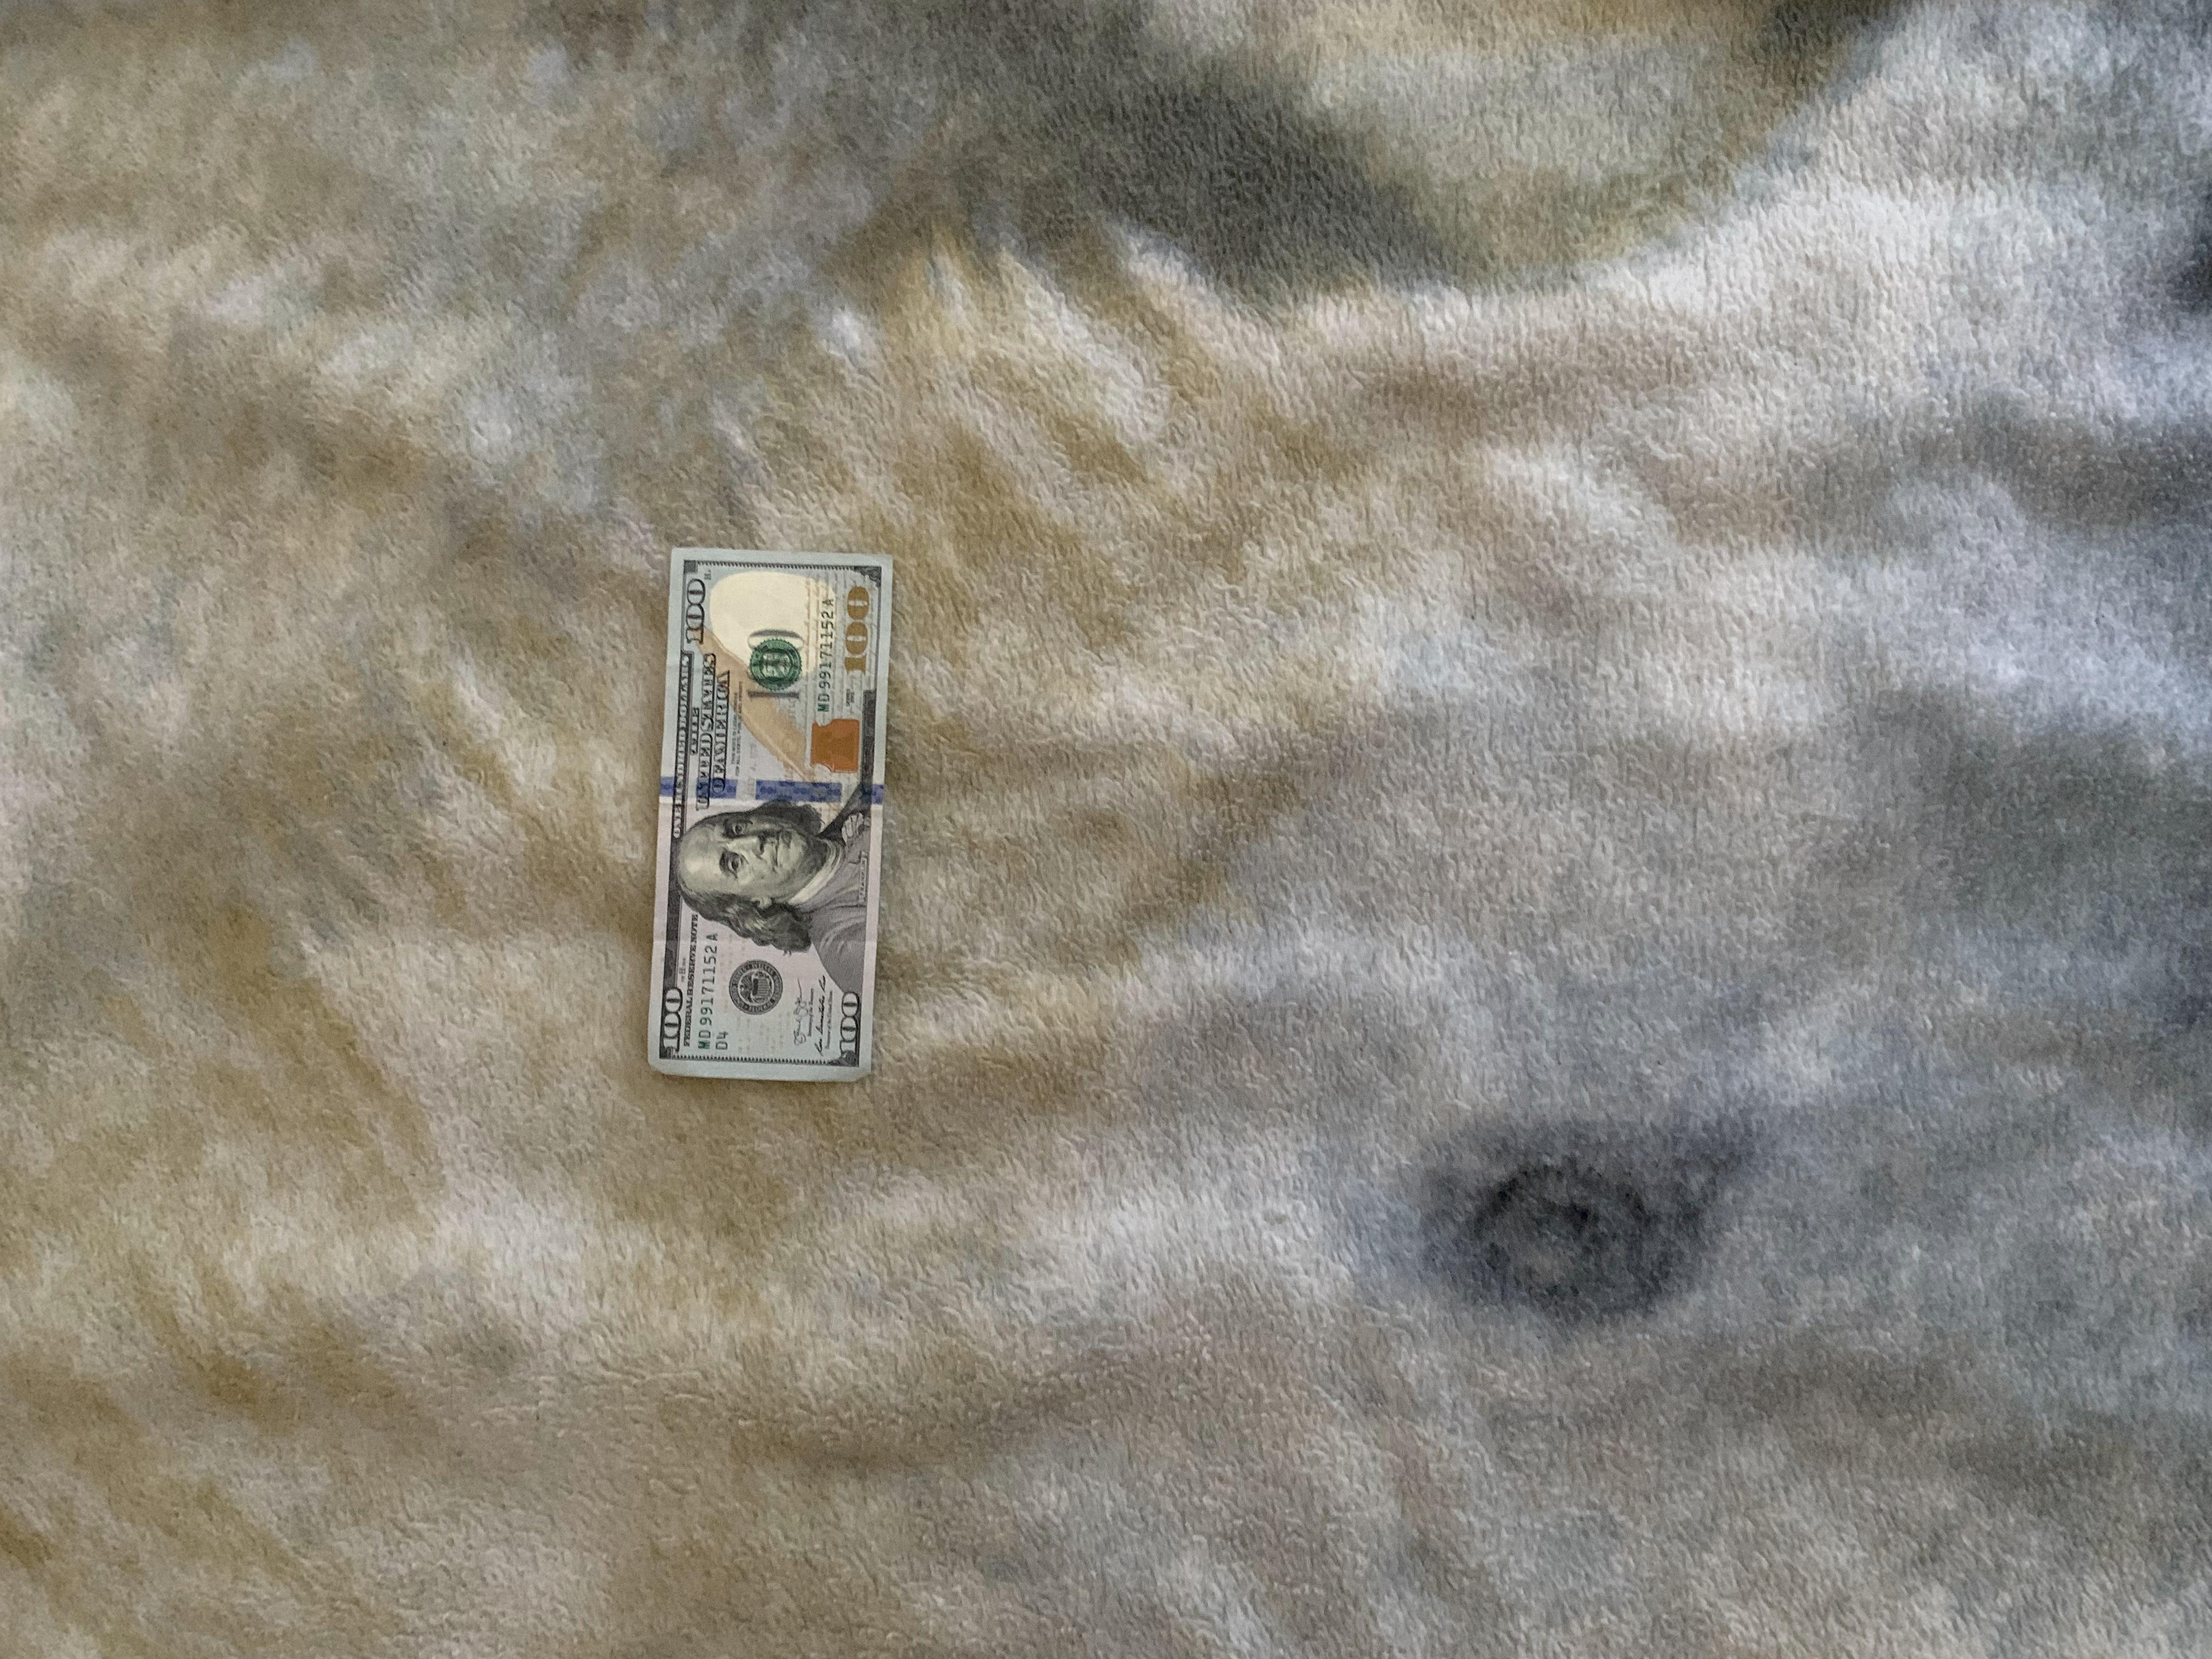HundredBill: (636, 547, 900, 1086)
